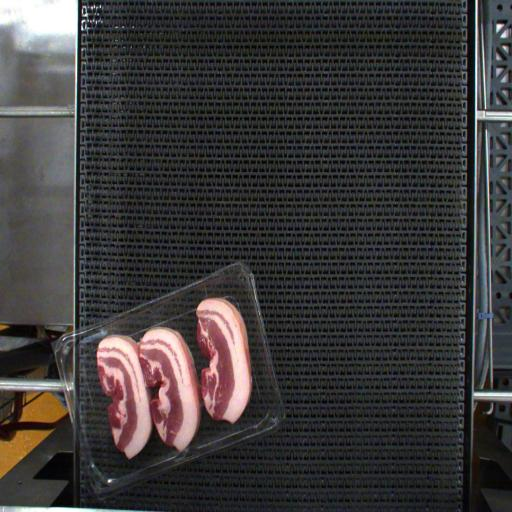loose-meat: (186, 305, 259, 424)
